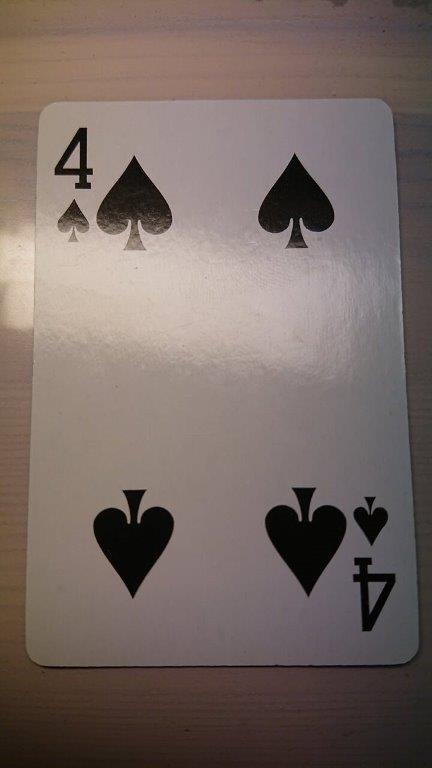4S: (22, 96, 421, 668)
